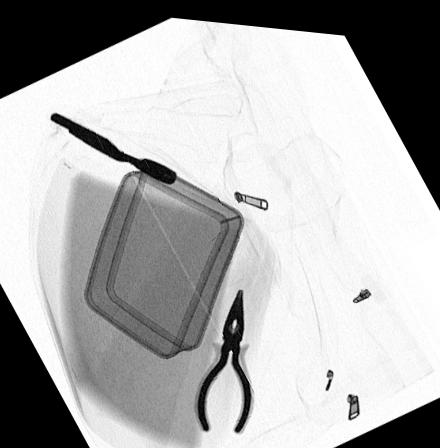Pliers: (46, 109, 177, 180), (195, 282, 252, 429)
